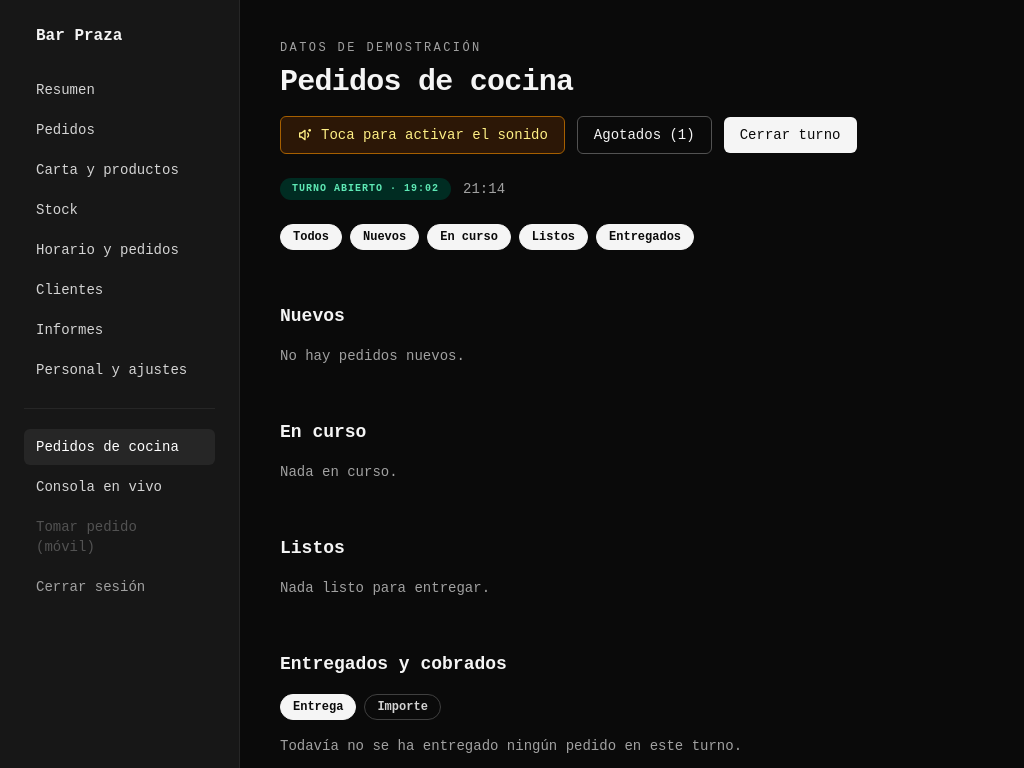
Test: KitchenPage live updates › stays quiet when the sound is off
Click the button "Toca para activar el sonido" at [422, 135], box x1=280 y1=116 x2=565 y2=154
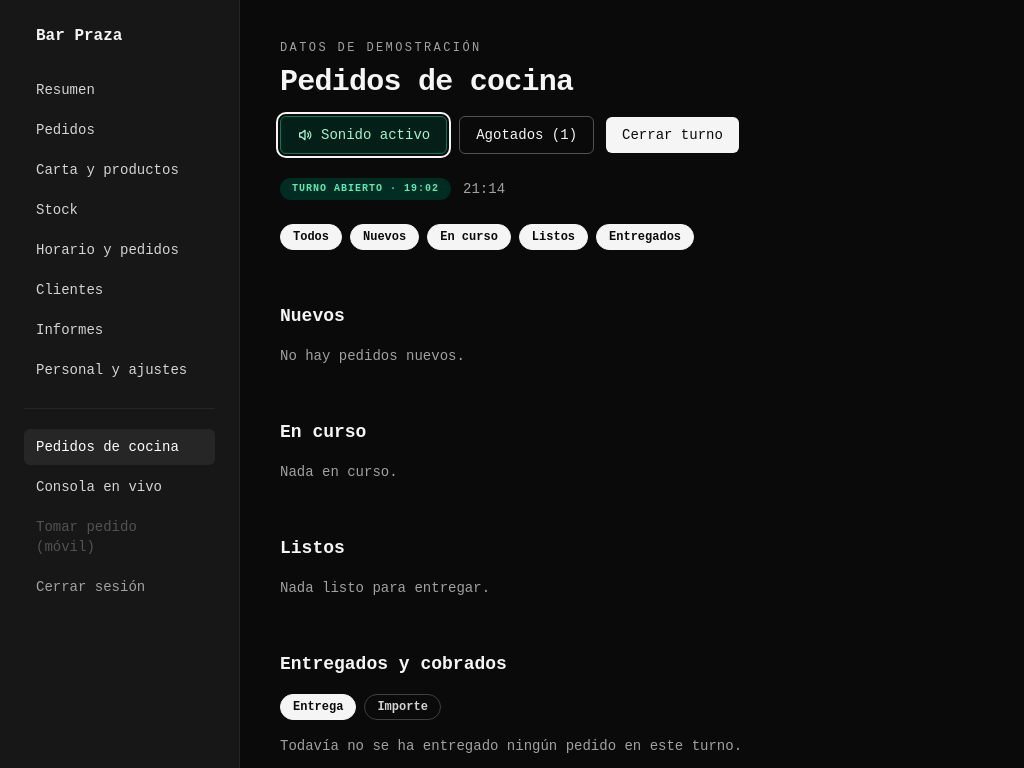
Click the button "Sonido activo" at [364, 135], box x1=280 y1=116 x2=447 y2=154
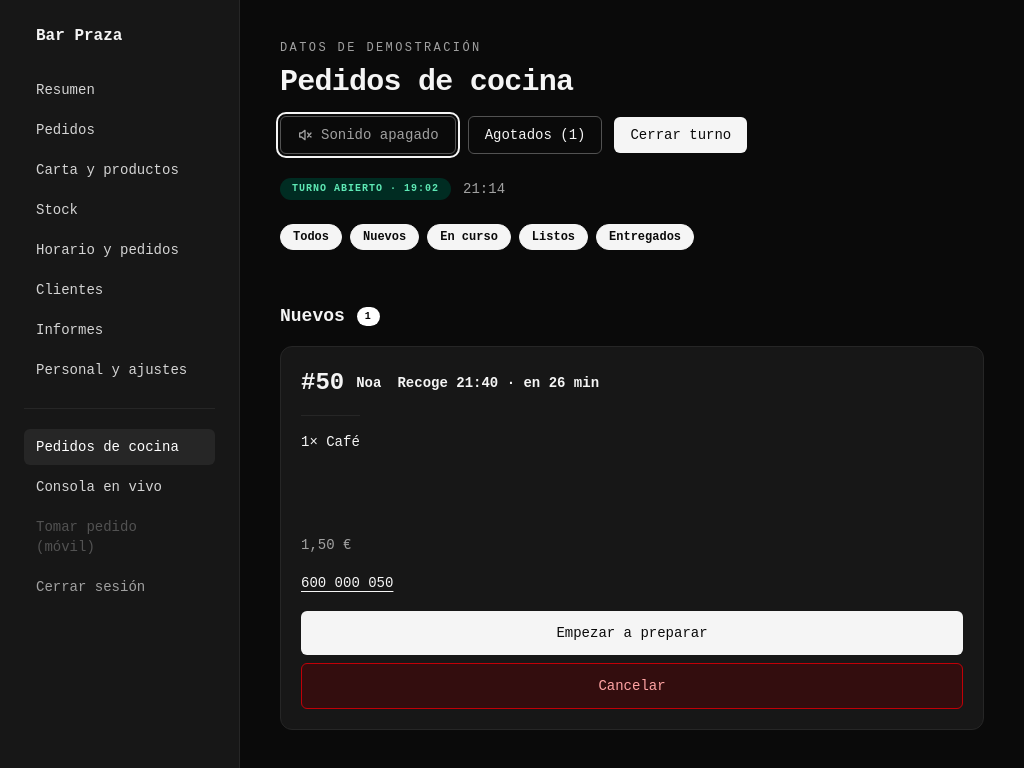
Expected: the button "Sonido apagado" is shown, x1=280 y1=116 x2=456 y2=154
Expected: the element named "Pedido #50" is shown, x1=280 y1=346 x2=984 y2=730
